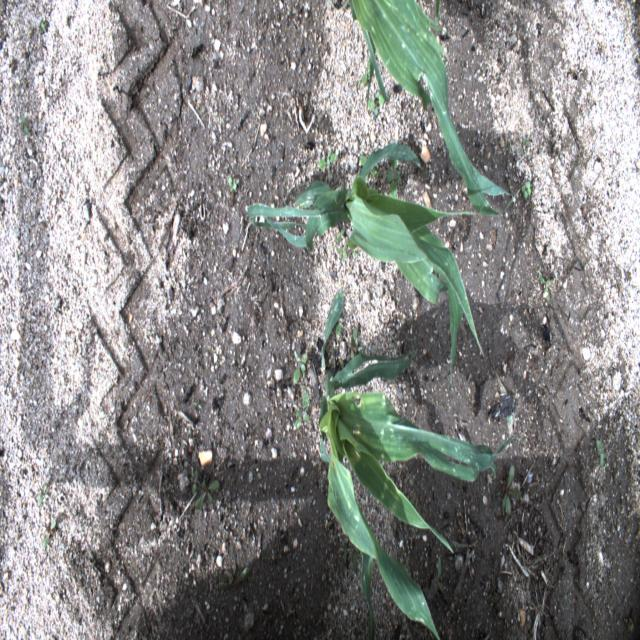crop: (318, 290, 526, 640), (247, 143, 520, 384), (347, 0, 511, 220)
weed: (501, 464, 522, 518), (386, 150, 400, 214), (194, 477, 220, 511), (293, 392, 310, 431), (350, 323, 366, 364), (367, 91, 387, 117), (358, 154, 378, 177), (294, 350, 306, 386), (539, 271, 552, 304), (43, 518, 56, 550), (316, 152, 338, 170), (361, 56, 374, 86), (434, 556, 444, 594), (596, 439, 609, 468), (38, 481, 48, 508), (21, 108, 29, 136), (228, 174, 240, 191), (335, 226, 346, 244), (521, 180, 531, 198), (192, 468, 198, 496), (335, 246, 348, 258), (521, 138, 529, 155), (38, 22, 46, 34)
